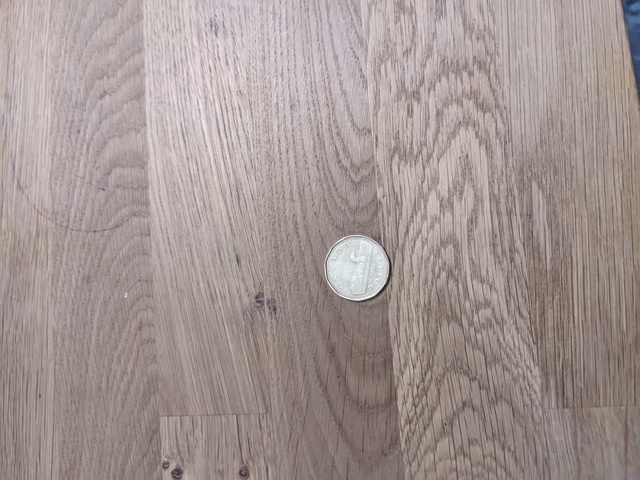loonie: (319, 228, 396, 300)
